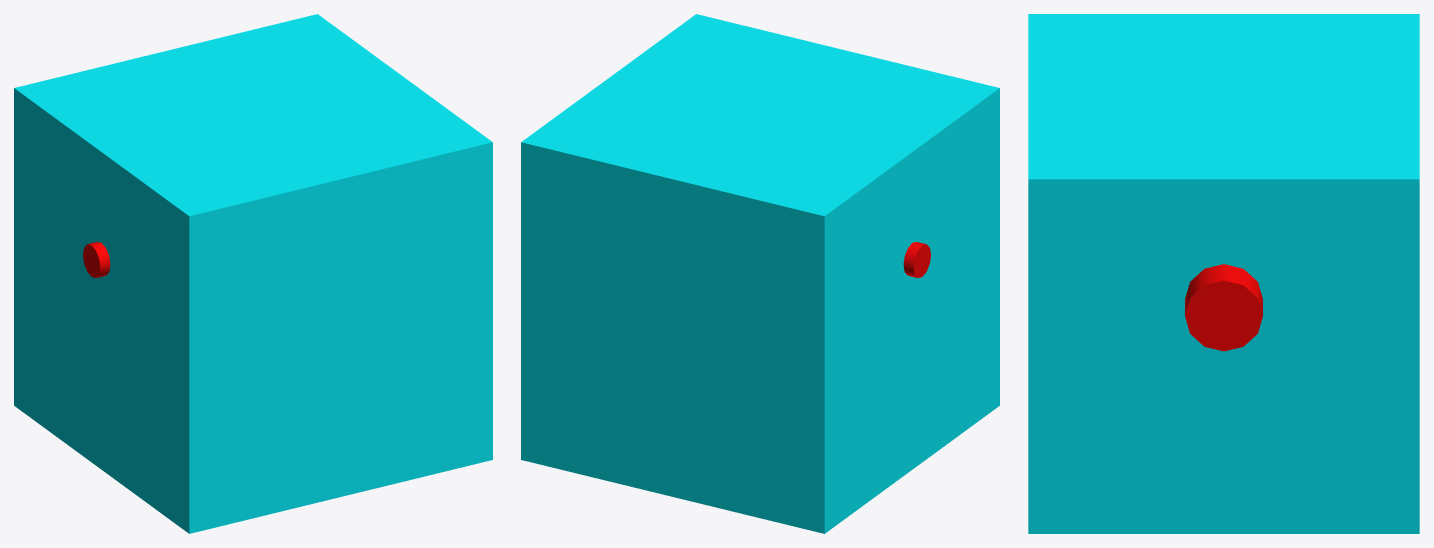
The model's file is cubo-opaco.glb.
3 renders of one model, left to right at view 1: azimuth 30°, elevation 25°; view 2: azimuth 150°, elevation 25°; view 3: azimuth 270°, elevation 25°, orthographic. The views are drawn at different scales.
Parts seen in each view (by area): view 1: carcasa, Pieza_D; view 2: carcasa, Pieza_D; view 3: carcasa, Pieza_D.
Part boxes in pixels (x1,y1,x2,y2): carcasa: (14, 14, 492, 533); Pieza_D: (83, 242, 110, 277); carcasa: (521, 14, 999, 533); Pieza_D: (903, 242, 930, 277); carcasa: (1028, 14, 1419, 533); Pieza_D: (1185, 264, 1262, 351).
Bounding box in the file's own units: 0.5793 × 0.508 × 0.508.
